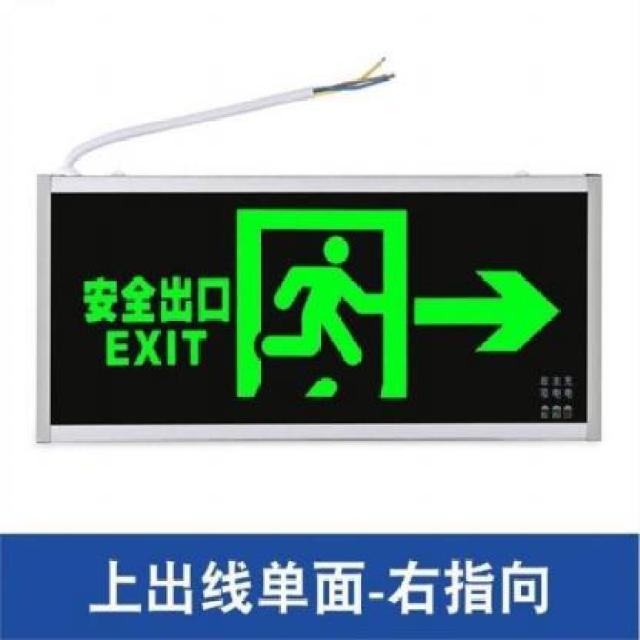exit_sign: (45, 168, 598, 456)
